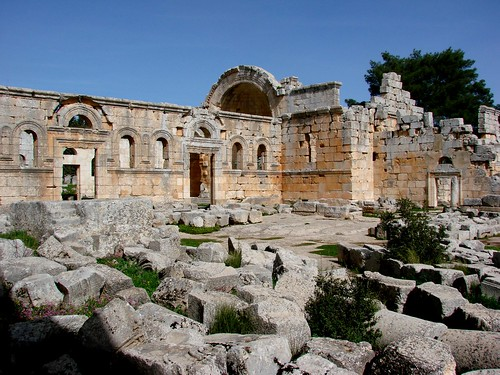building: (1, 50, 494, 206)
rocks: (1, 207, 495, 375)
sky: (7, 1, 491, 88)
tree: (363, 46, 495, 128)
